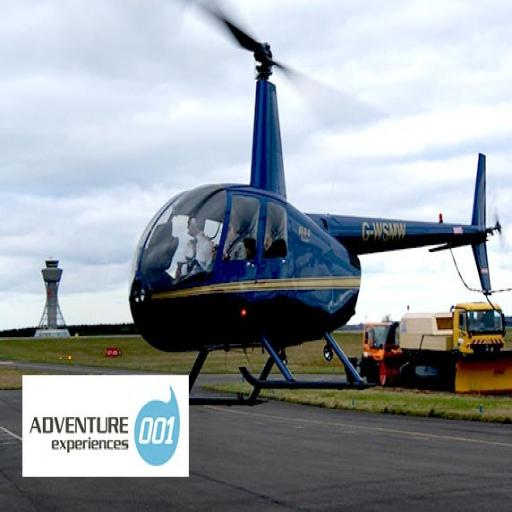helicopter: (131, 2, 504, 406)
